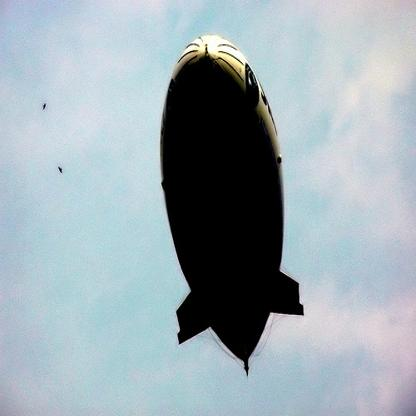Airship: (162, 32, 307, 375)
